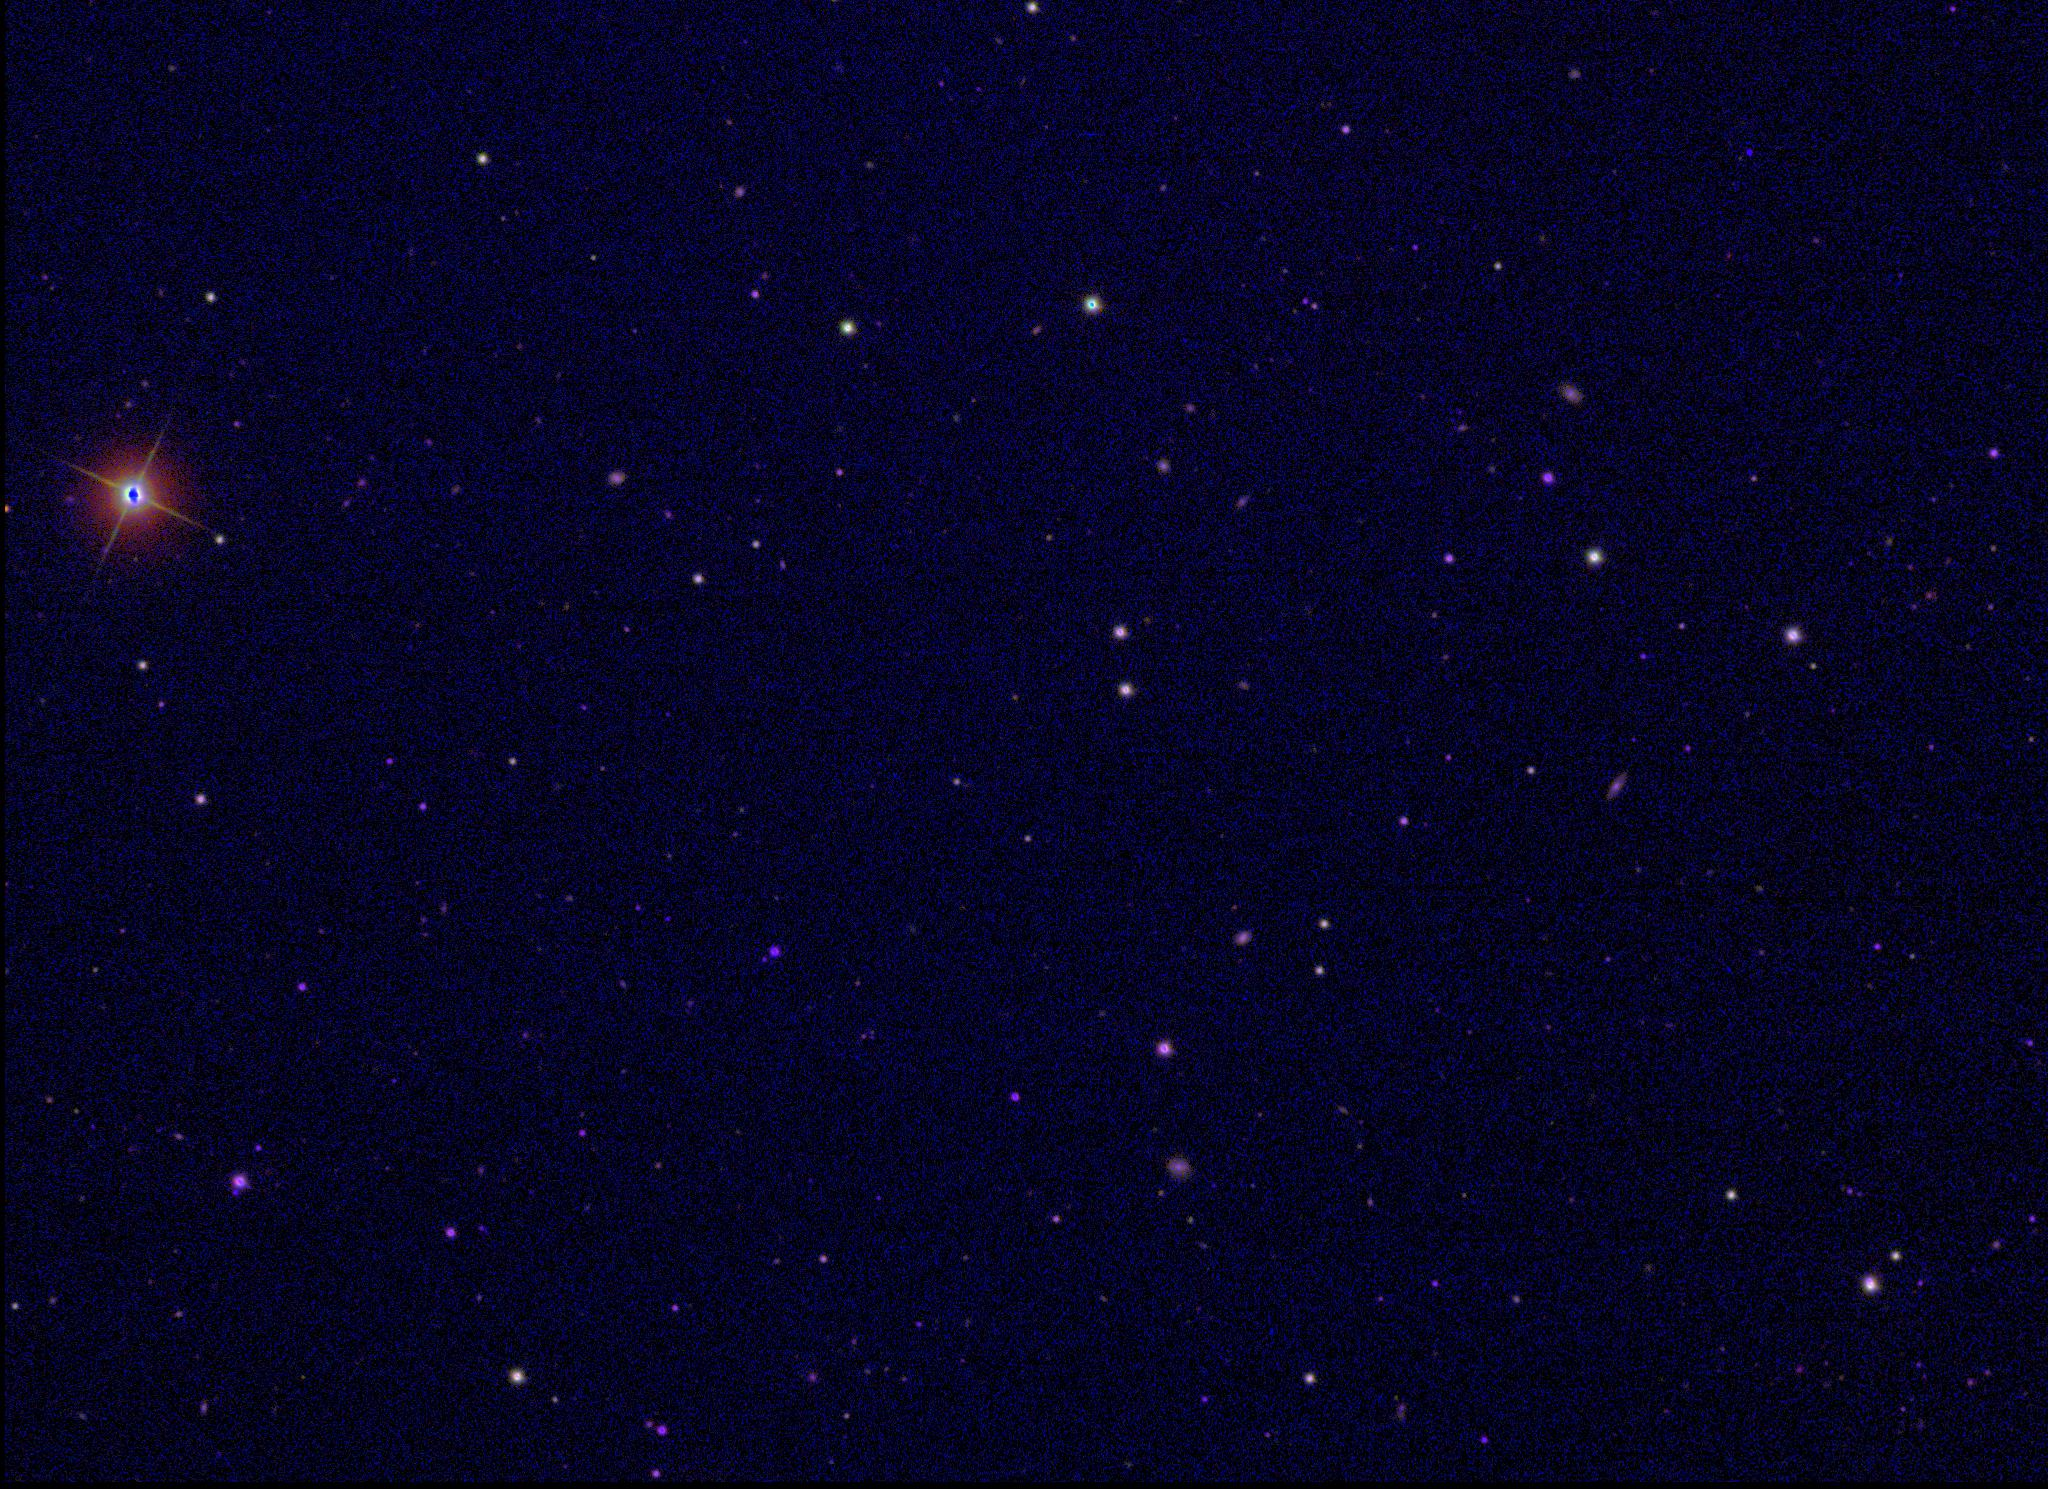L: (1743, 146, 1757, 161)
